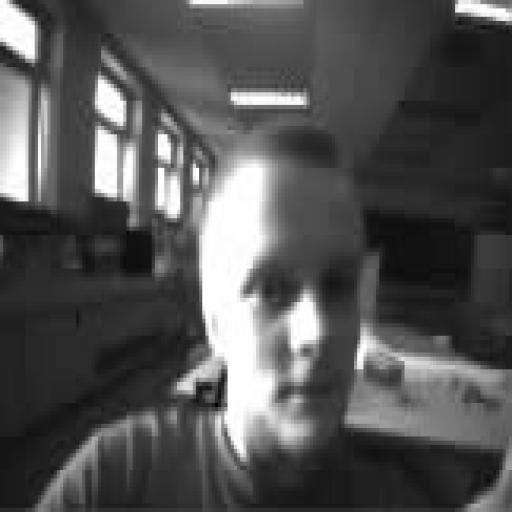human: (38, 122, 455, 511)
